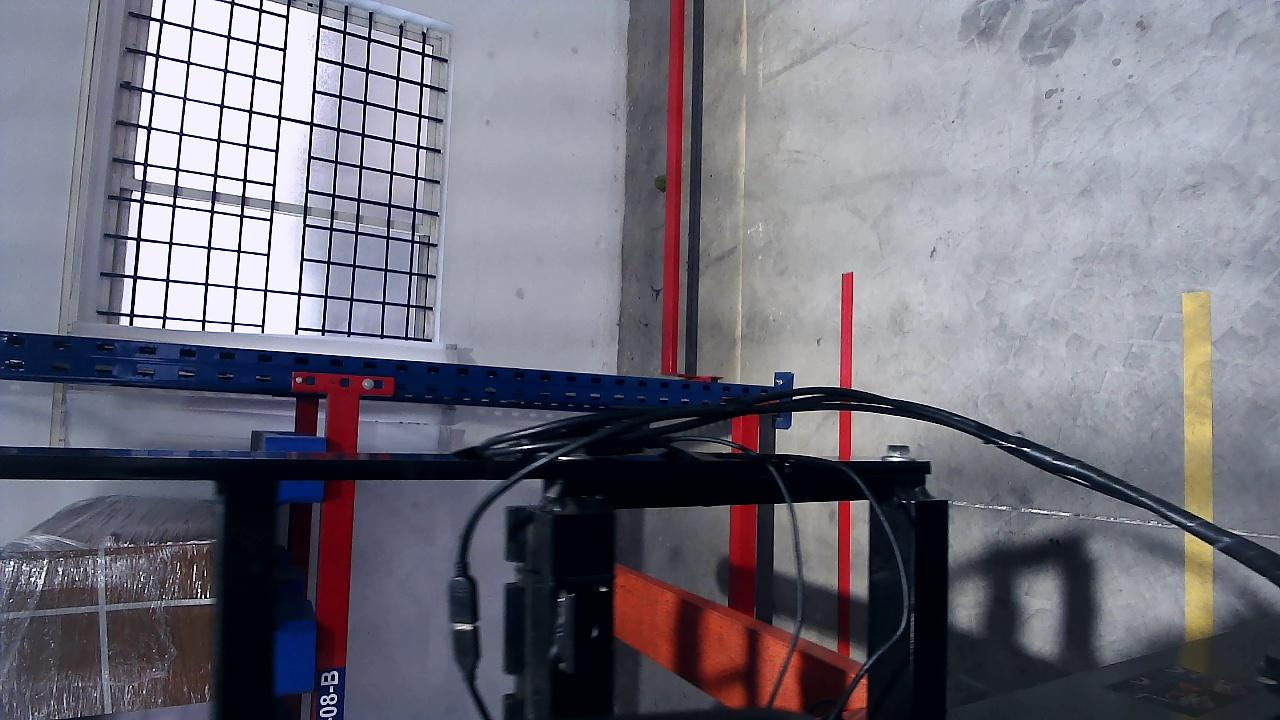h_rack: (312, 388, 360, 718)
red_line: (839, 271, 850, 658)
yellow_line: (1183, 295, 1213, 638)
